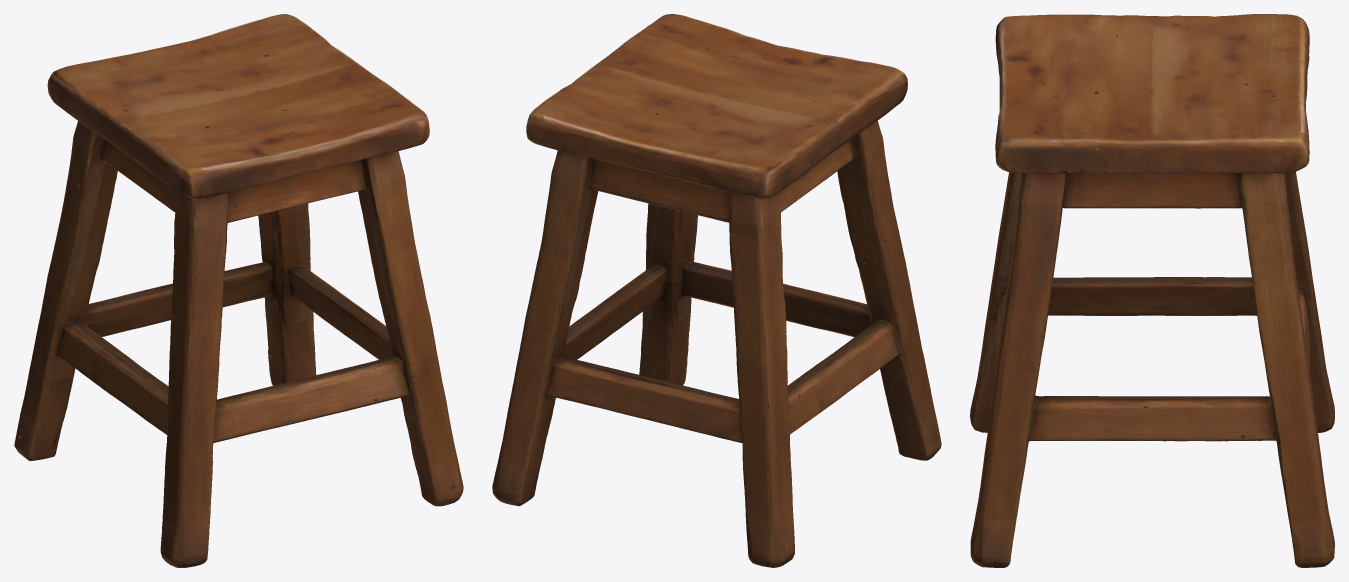
The model's file is Rustic_Seat_0717230141_texture.fbx.
3 views of the same model, side by side, from view 1: azimuth 30°, elevation 25°; view 2: azimuth 150°, elevation 25°; view 3: azimuth 270°, elevation 25° (orthographic). The views are drawn at different scales.
Visible parts, largest first — view 1: Mesh_0; view 2: Mesh_0; view 3: Mesh_0.
Part boxes in pixels (x1,y1,x2,y2): Mesh_0: [14, 14, 463, 567]; Mesh_0: [492, 14, 941, 567]; Mesh_0: [970, 14, 1334, 567].
Size of the model in its own units: 158 by 200 by 158.
1 material, 1 textured.
